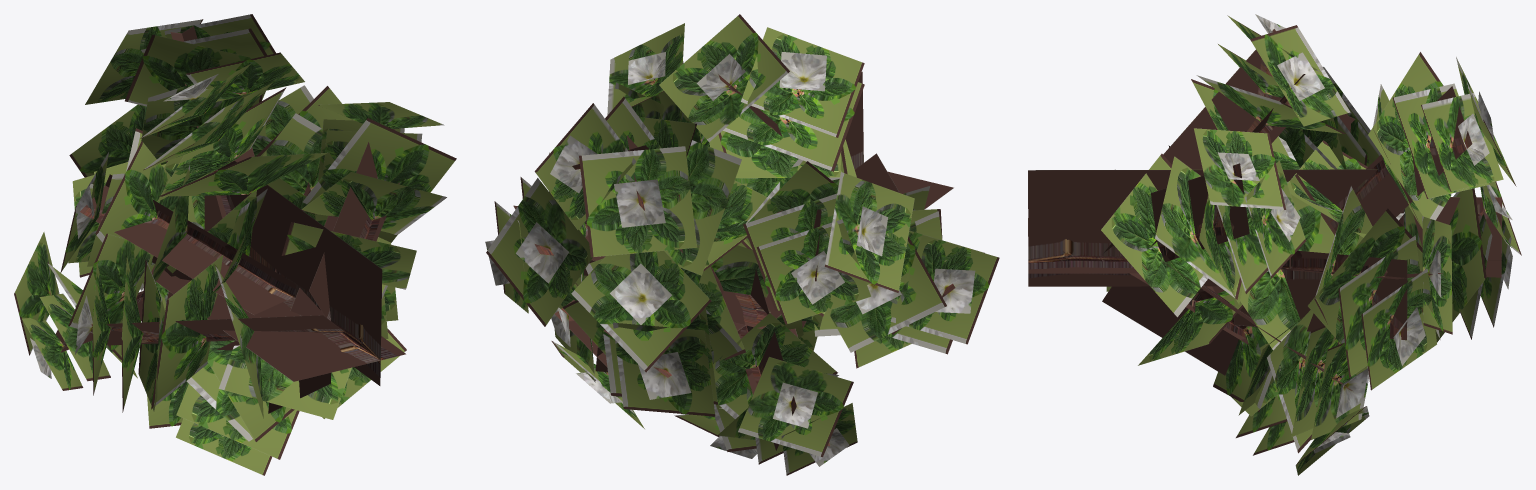
The model's file is Bush5.fbx.
The picture shows the model from 3 angles, left to right: view 1: azimuth 30°, elevation 25°; view 2: azimuth 150°, elevation 25°; view 3: azimuth 270°, elevation 25°; orthographic projection. The views are drawn at different scales.
Parts seen in each view (by area): view 1: Bush7; view 2: Bush7; view 3: Bush7.
Part boxes in pixels (x1=…): Bush7: x1=14, y1=14, x2=456, y2=475; Bush7: x1=485, y1=14, x2=999, y2=475; Bush7: x1=1028, y1=14, x2=1521, y2=475.
Bounding box in the file's own units: 36.33 × 36.4 × 38.45.
